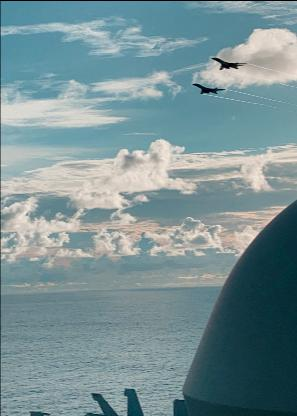AV8B: (211, 56, 247, 68), (192, 82, 226, 92)
